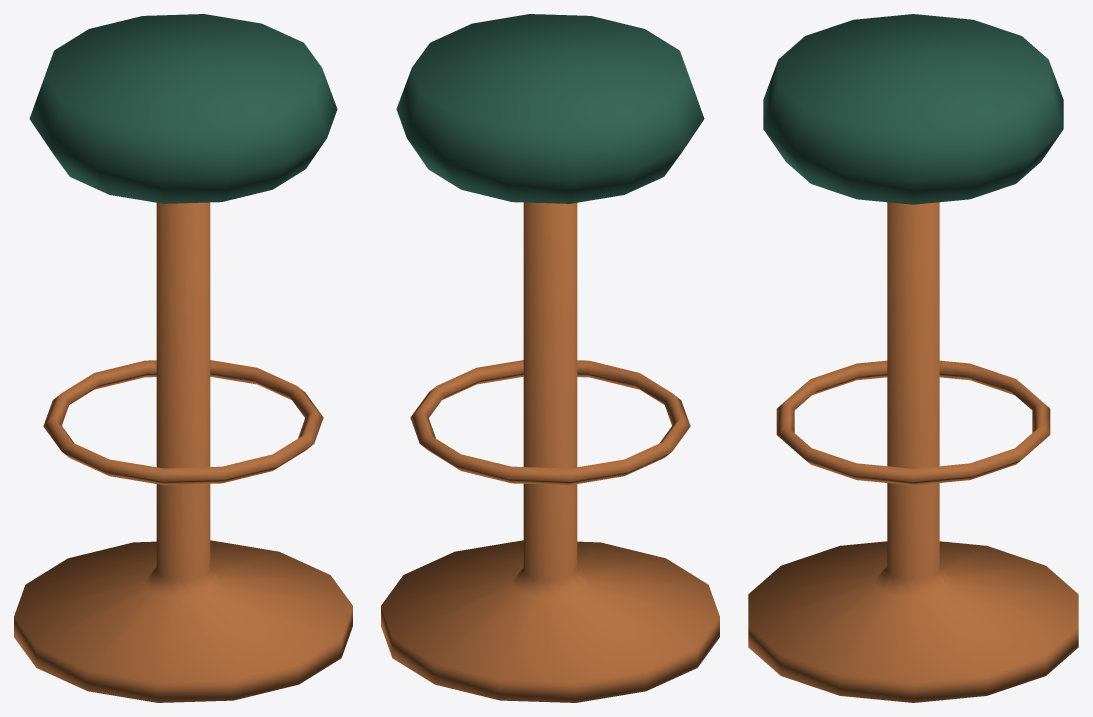
The model's file is bar_stool.glb.
3 renders of one model, left to right at view 1: azimuth 30°, elevation 25°; view 2: azimuth 150°, elevation 25°; view 3: azimuth 270°, elevation 25°, orthographic.
Parts seen in each view (by area): view 1: bar_stool metal, bar_stool felt; view 2: bar_stool metal, bar_stool felt; view 3: bar_stool metal, bar_stool felt.
Boxes of the visible parts, box(x1,y1,x2,y2) form: bar_stool metal: box(14, 202, 352, 702); bar_stool felt: box(29, 14, 337, 203); bar_stool metal: box(381, 202, 719, 702); bar_stool felt: box(396, 14, 704, 203); bar_stool metal: box(748, 202, 1078, 702); bar_stool felt: box(763, 14, 1063, 204).
Bounding box in the file's own units: 0.44 × 0.81 × 0.429.
